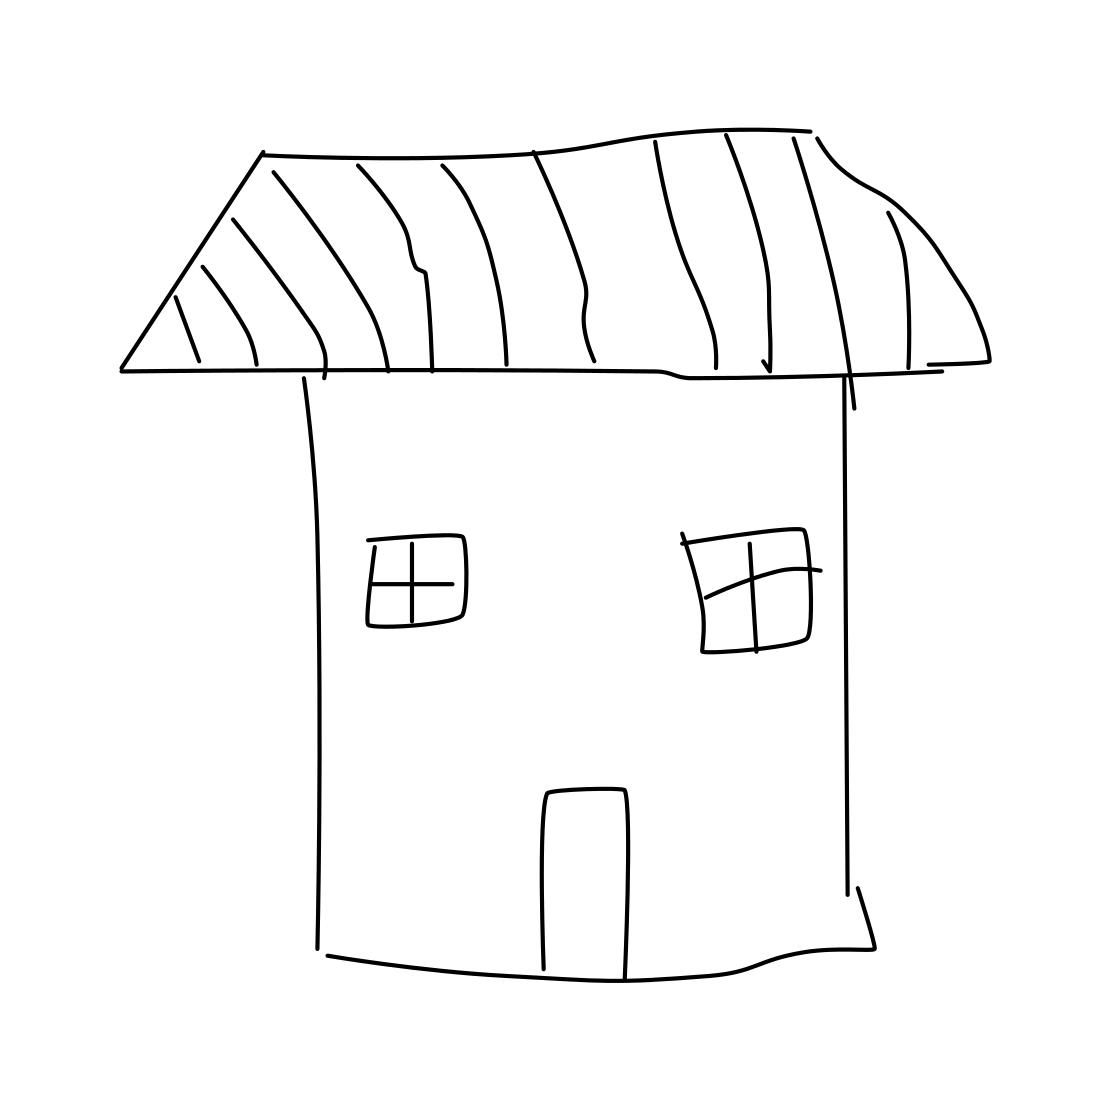House: (112, 106, 1030, 994)
